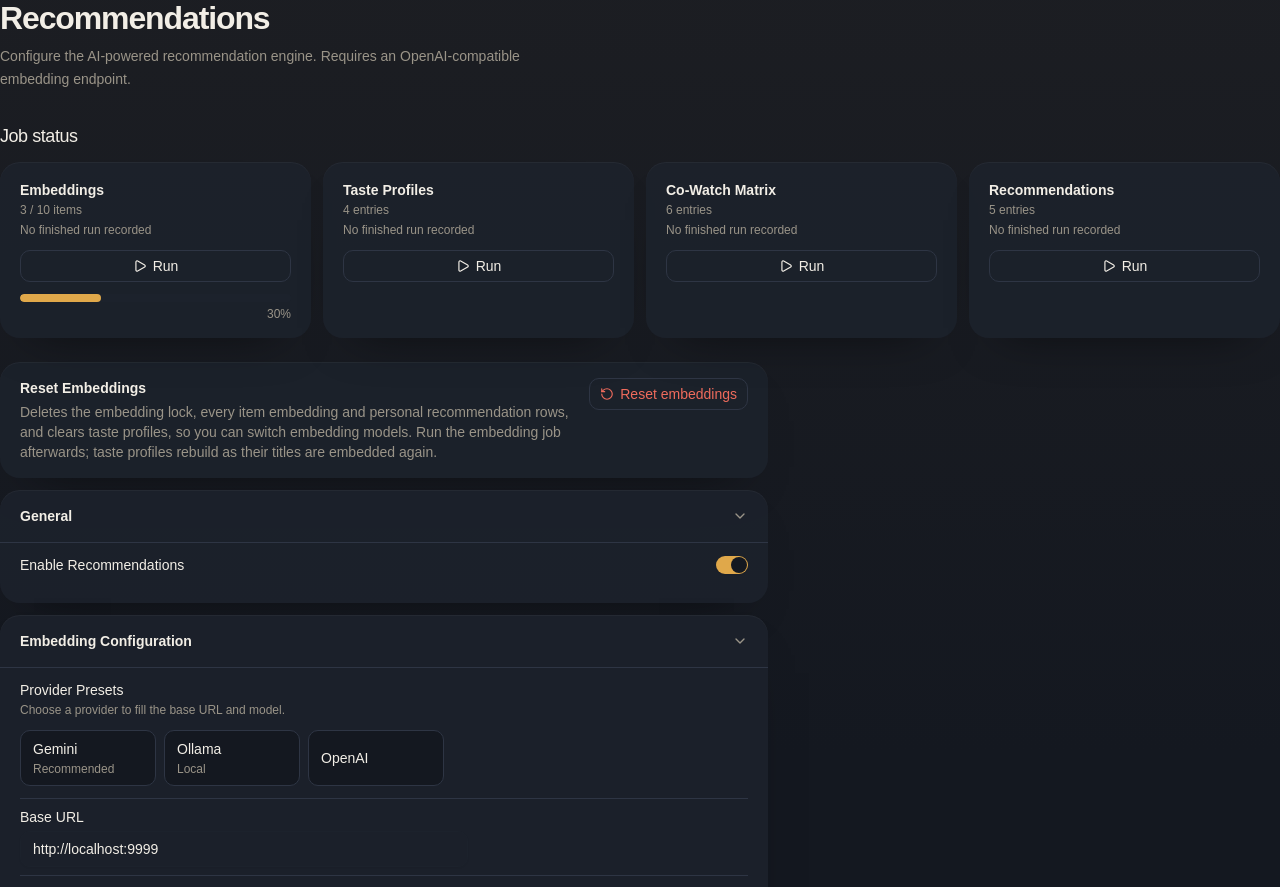
Test: AdminRecommendations › does not reset when the confirmation is cancelled
Click the button "Reset embeddings": (669, 394) [589, 378, 748, 410]
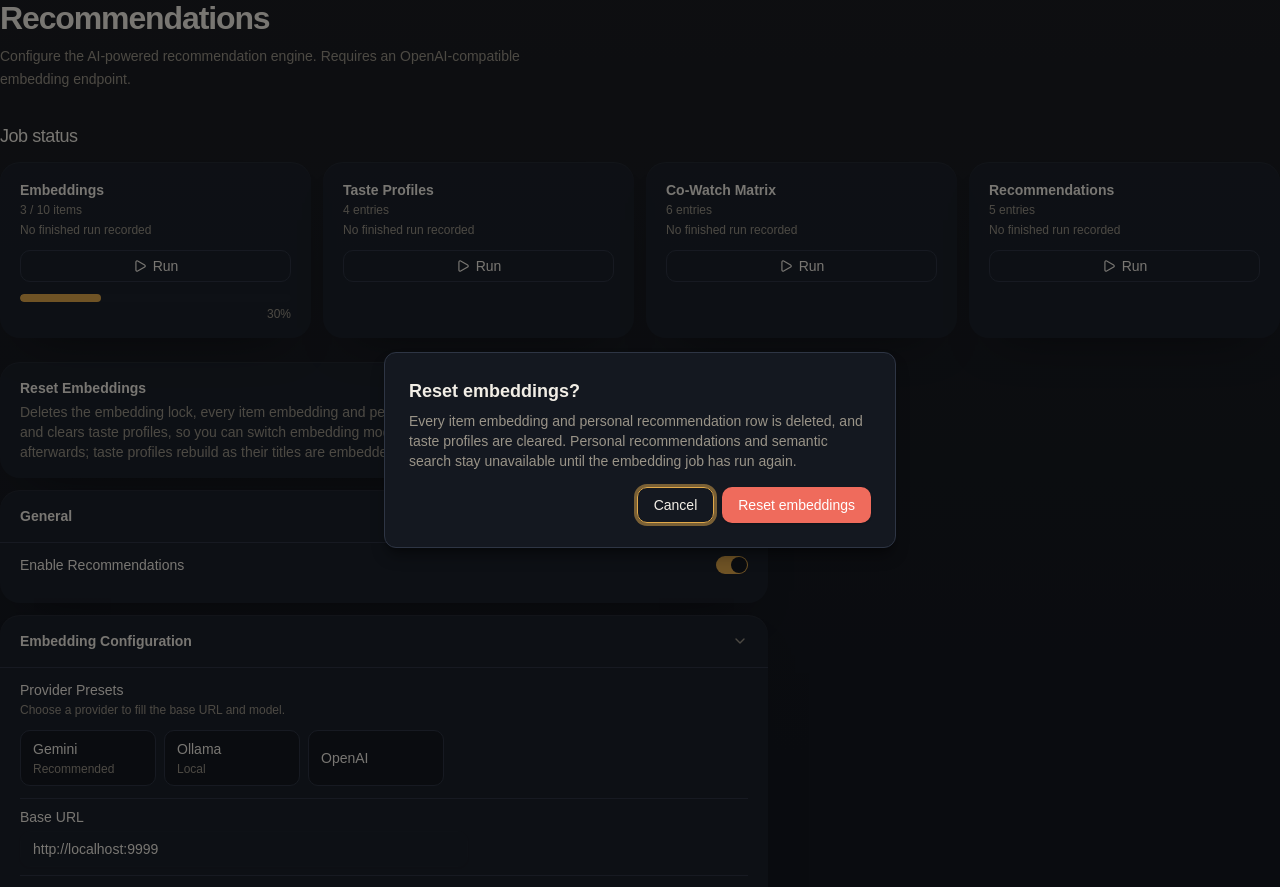
Click the button "Cancel": (676, 505) [637, 487, 714, 523]
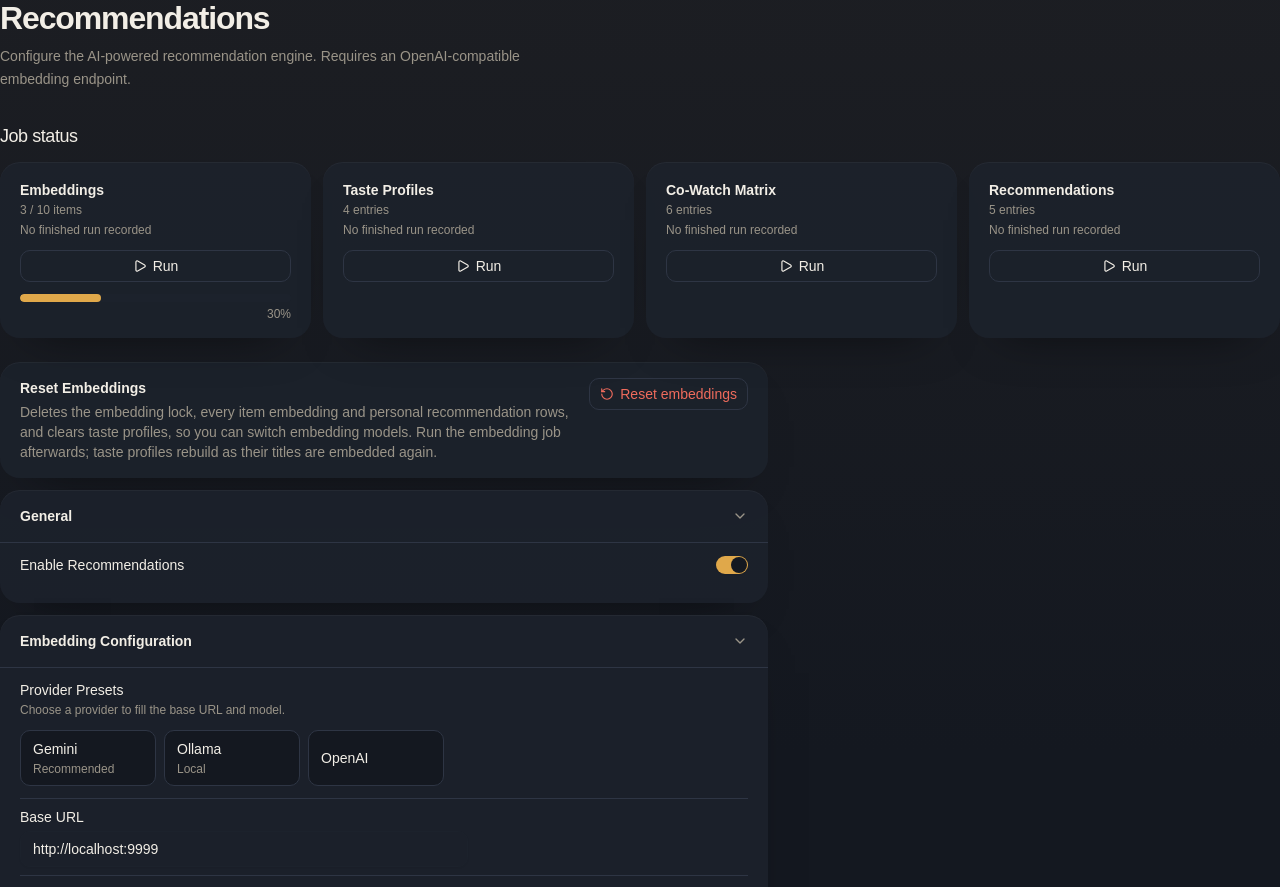
Expected: the dialog is gone
